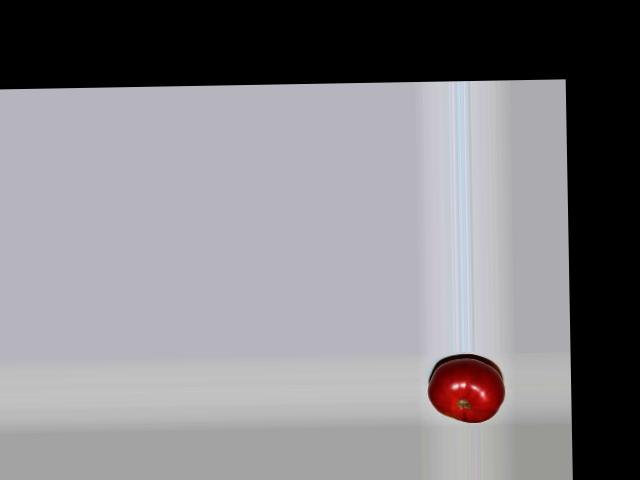tomato: (427, 358, 506, 424)
